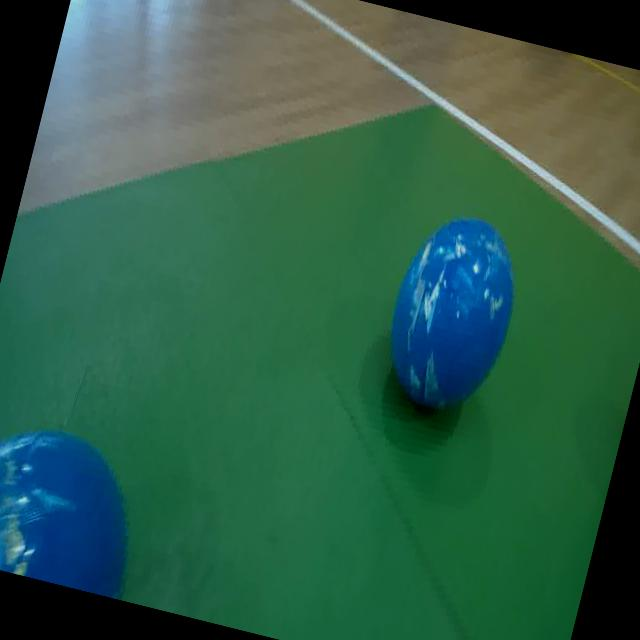blue_ball: (368, 196, 539, 433), (0, 394, 162, 600)
